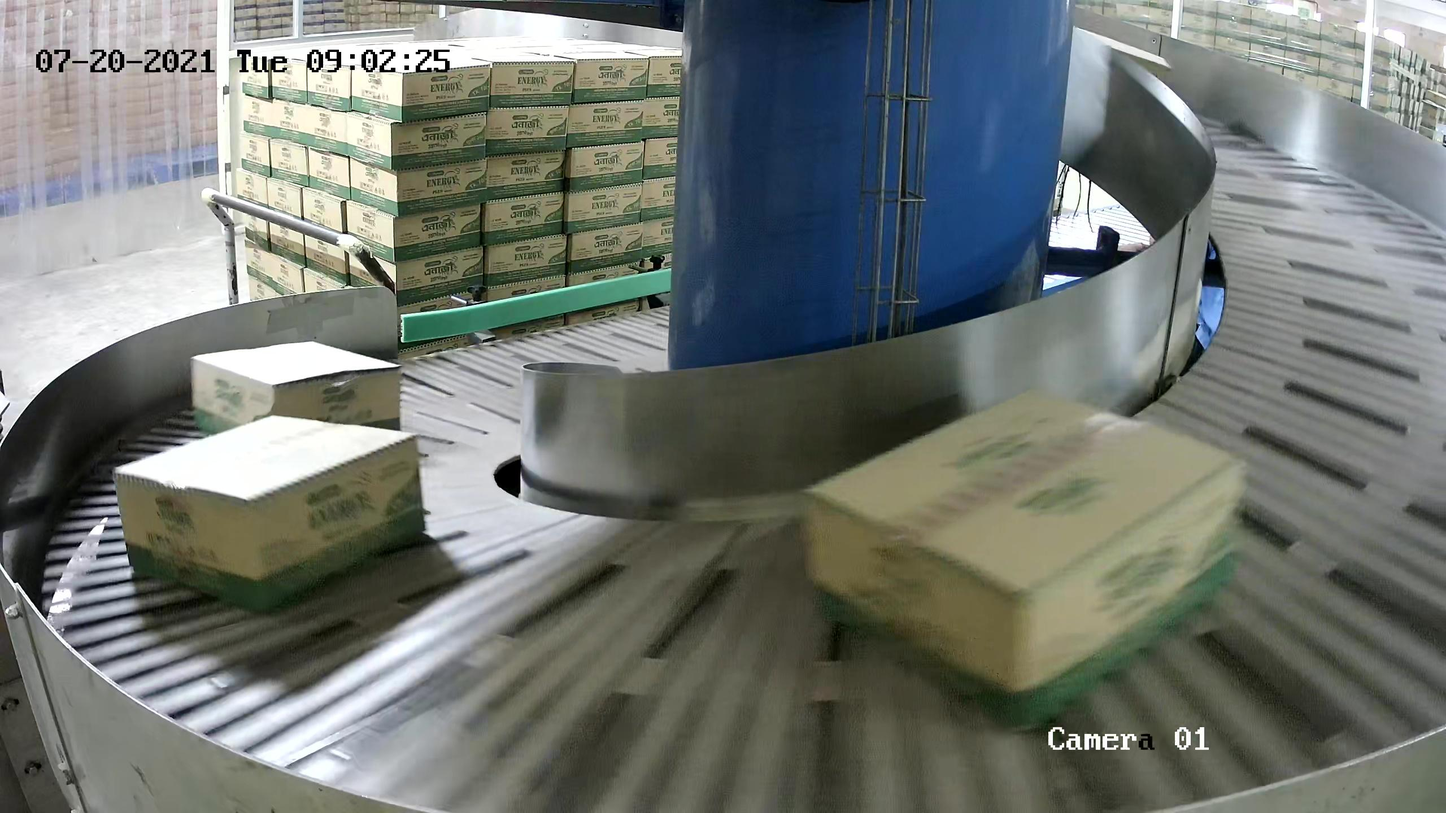Box: (796, 383, 1244, 734), (111, 413, 427, 614), (188, 339, 404, 448)
